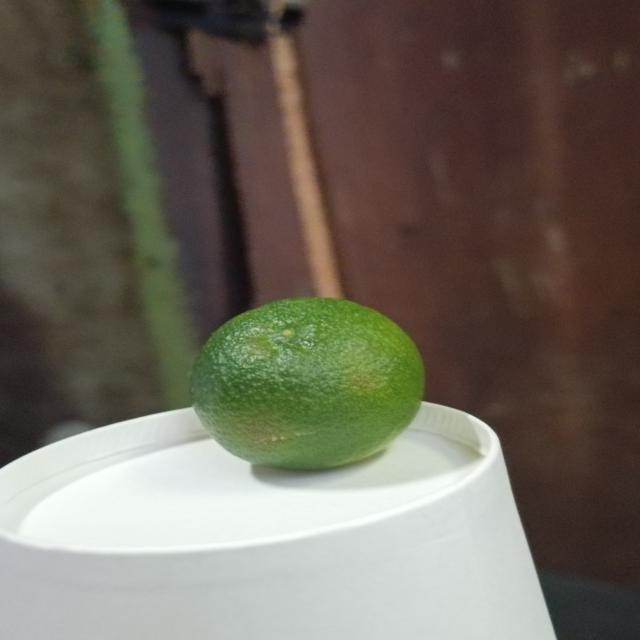heathy: (185, 296, 429, 476)
